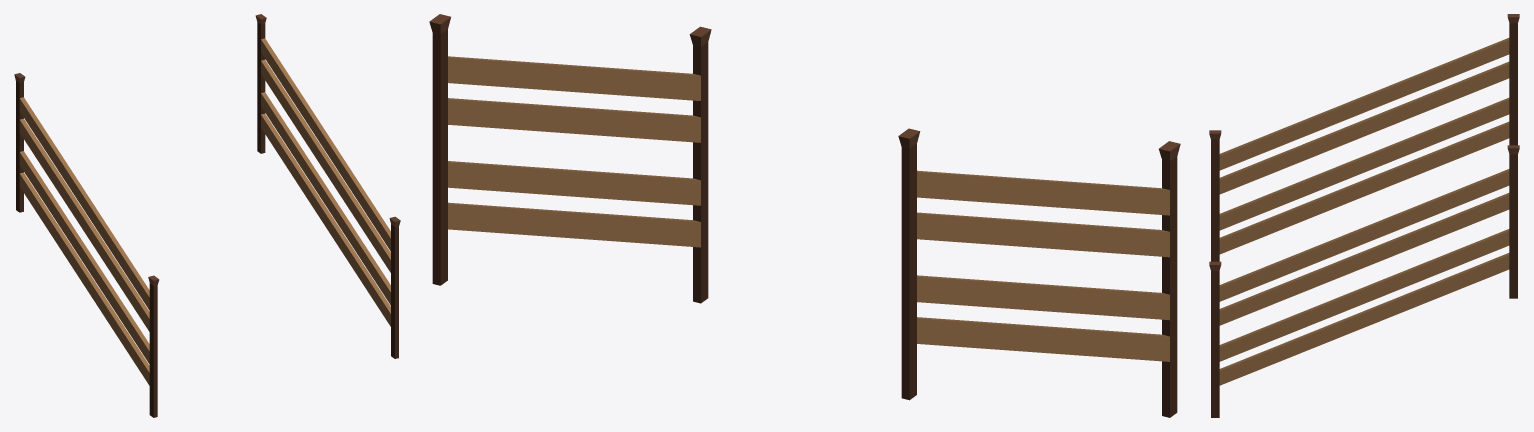
Rendered from StairRailLongV1W.fbx.
3 views of the same model, side by side, from view 1: azimuth 30°, elevation 25°; view 2: azimuth 150°, elevation 25°; view 3: azimuth 270°, elevation 25° (orthographic). The views are drawn at different scales.
Visible parts, largest first — view 1: StairRailLongV1W; view 2: StairRailLongV1W; view 3: StairRailLongV1W.
Part boxes in pixels (left/top/right/bottom): StairRailLongV1W: left=14, top=14, right=400, bottom=417; StairRailLongV1W: left=429, top=14, right=1180, bottom=417; StairRailLongV1W: left=1209, top=14, right=1519, bottom=417.
Bounding box in the file's own units: 198 × 186 × 193.
